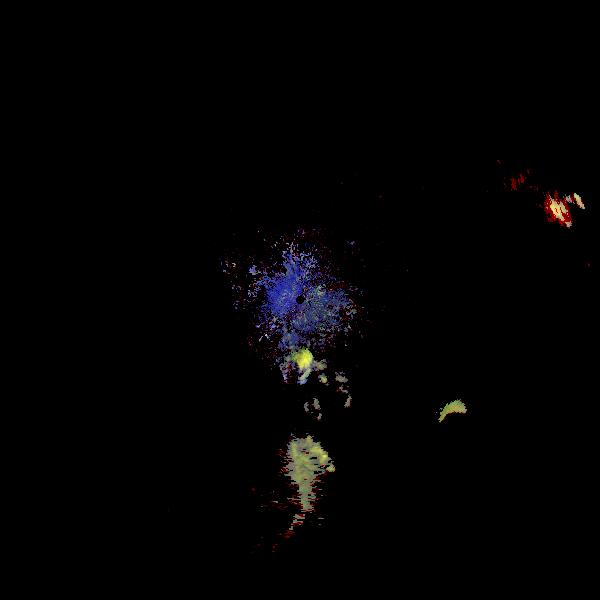roost: (436, 402, 478, 444), (276, 353, 315, 392)
